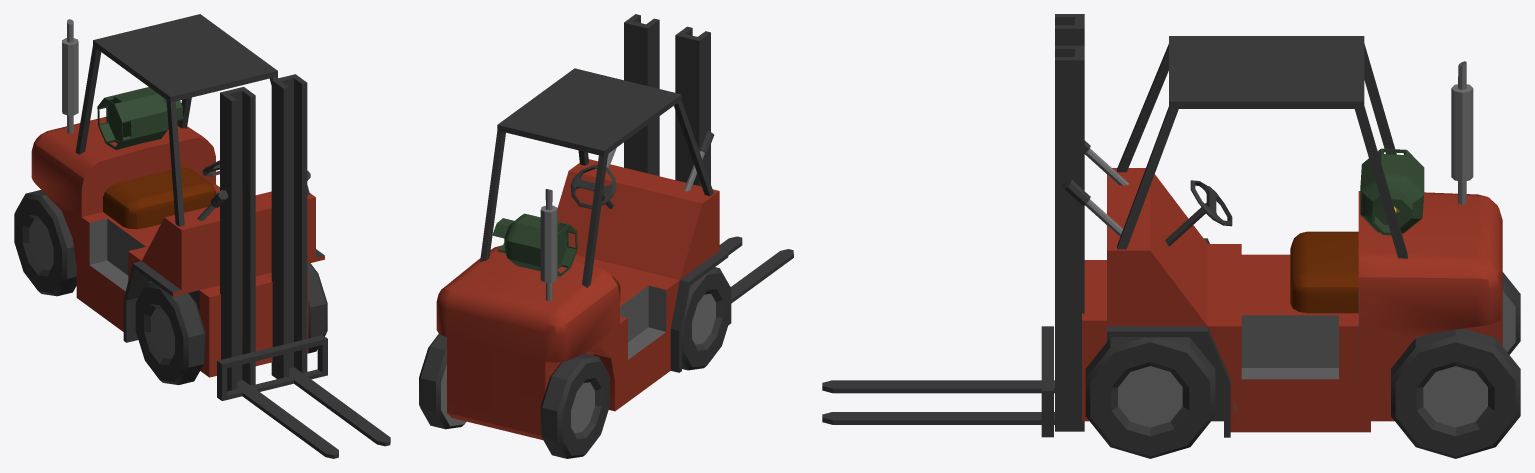
Rendered from BetterFenwick.fbx.
The picture shows the model from 3 angles, left to right: view 1: azimuth 30°, elevation 25°; view 2: azimuth 150°, elevation 25°; view 3: azimuth 270°, elevation 25°; orthographic projection. The views are drawn at different scales.
Parts seen in each view (by area): view 1: FENWICK; view 2: FENWICK; view 3: FENWICK.
Boxes of the visible parts, x1,y1,x2,y2 form: FENWICK: (14,14,390,458); FENWICK: (419,14,793,458); FENWICK: (822,14,1520,458).
Bounding box in the file's own units: 1.46 × 2.77 × 4.61.
